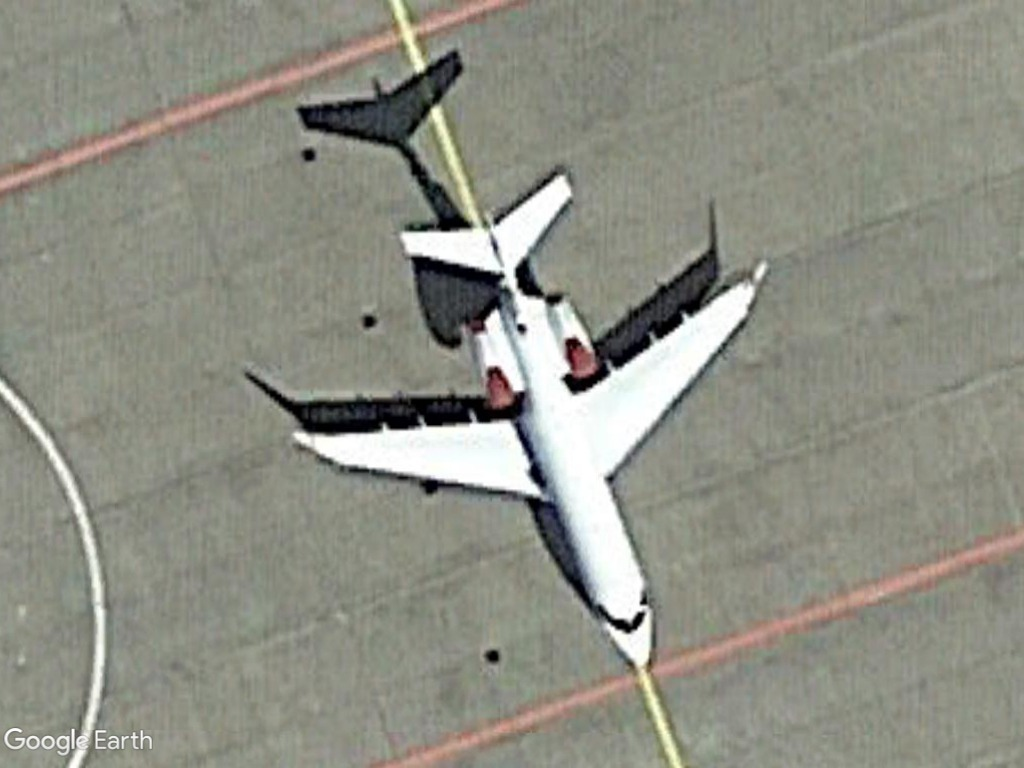chartered: (286, 162, 770, 673)
